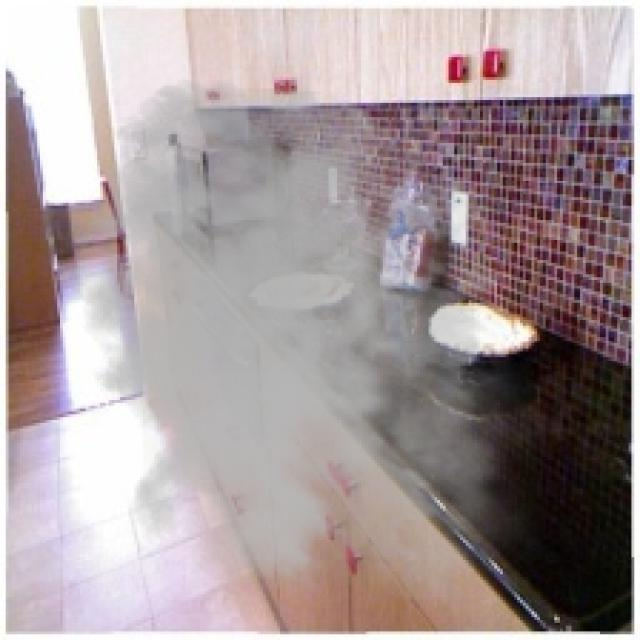smoke: (48, 77, 563, 632)
